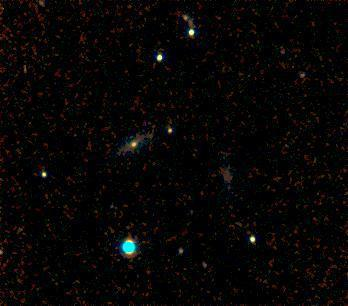star: (178, 15, 208, 45)
